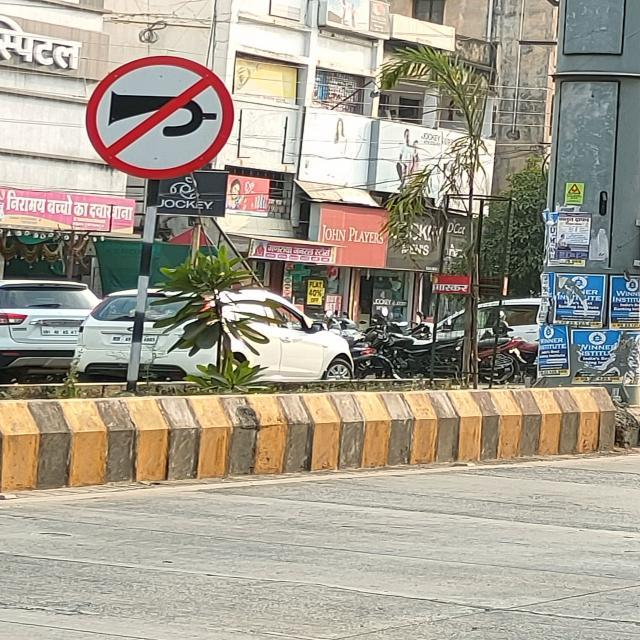horn prohibited: (83, 47, 236, 184)
